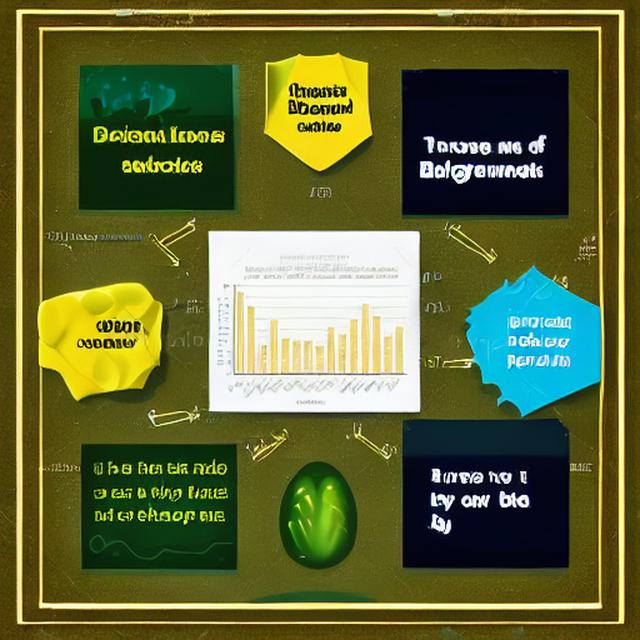Graph: (212, 272, 410, 410)
